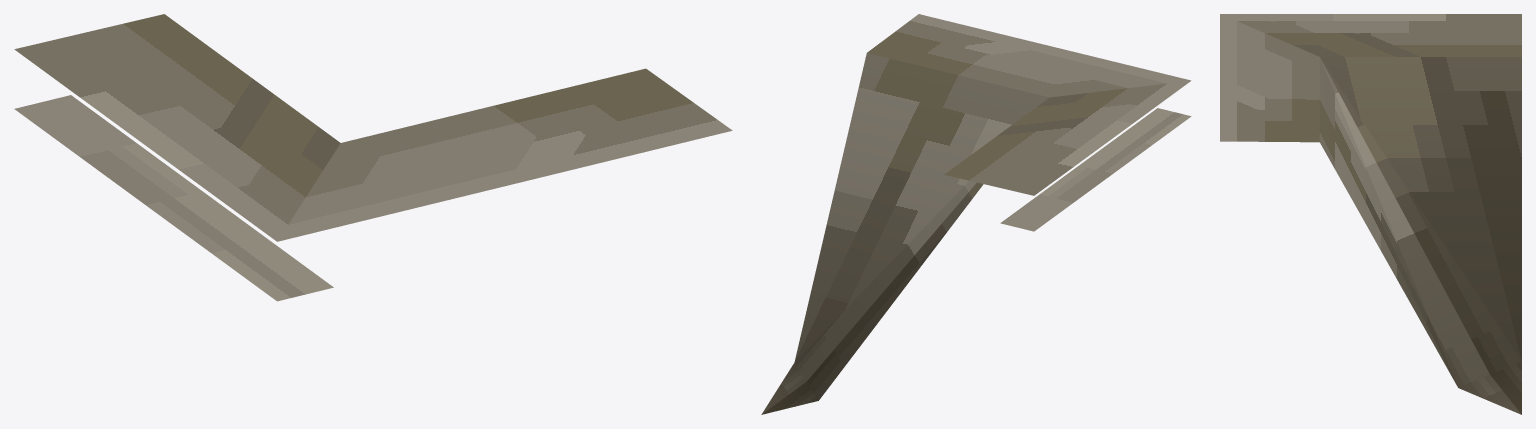
3 renders of one model, left to right at view 1: azimuth 30°, elevation 25°; view 2: azimuth 150°, elevation 25°; view 3: azimuth 270°, elevation 25°, orthographic. The views are drawn at different scales.
Bounding box in the file's own units: 1 × 1 × 1.
2 materials, 2 textured.
